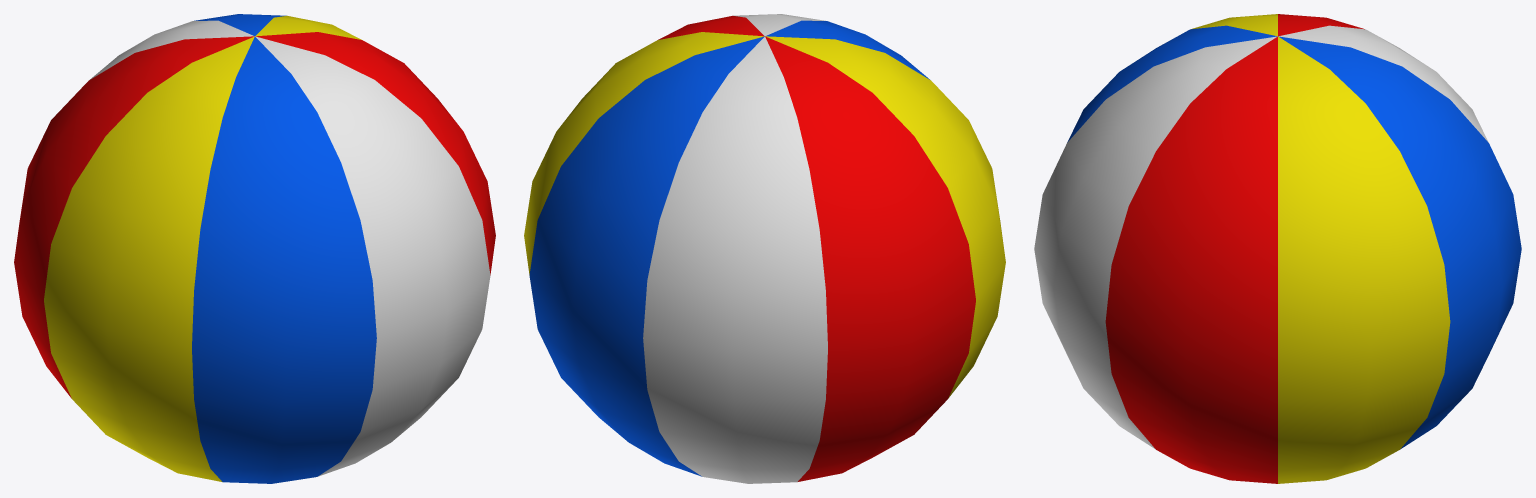
File: beachball.fbx
3 views of the same model, side by side, from view 1: azimuth 30°, elevation 25°; view 2: azimuth 150°, elevation 25°; view 3: azimuth 270°, elevation 25° (orthographic).
Visible parts, largest first — view 1: pSphere1; view 2: pSphere1; view 3: pSphere1.
Part boxes in pixels (x1,y1,x2,y2): pSphere1: (14, 14, 495, 483); pSphere1: (524, 14, 1005, 483); pSphere1: (1034, 14, 1521, 483).
Size of the model in its own units: 3.29 by 3.16 by 3.29.
